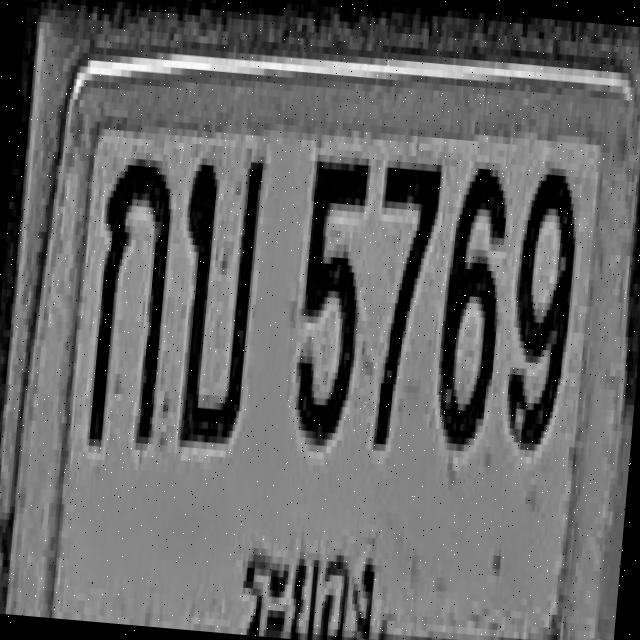10GorGai: (85, 153, 176, 447)
35BorBaiMai: (167, 146, 266, 448)
5: (290, 154, 370, 448)
6: (432, 159, 510, 446)
7: (361, 154, 442, 446)
9: (503, 162, 581, 450)
Rayong: (231, 506, 393, 640)
